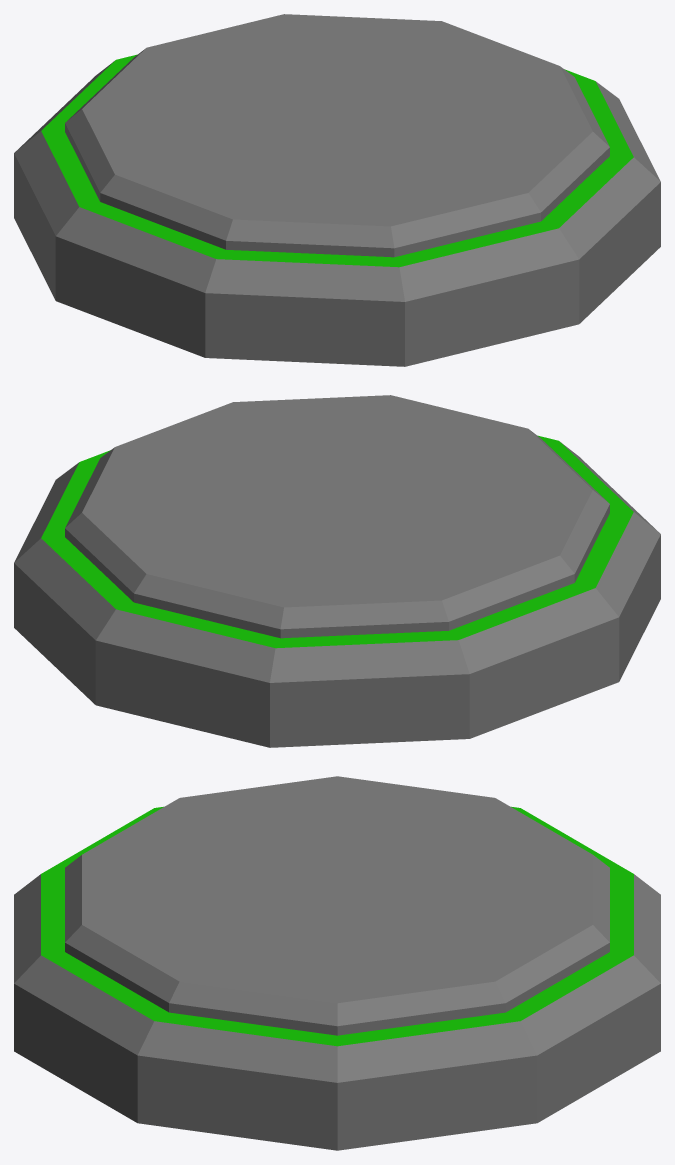
File: DroneLanding.fbx
3 views of the same model, one above another, from view 1: azimuth 30°, elevation 25°; view 2: azimuth 150°, elevation 25°; view 3: azimuth 270°, elevation 25° (orthographic). The views are drawn at different scales.
Parts seen in each view (by area): view 1: drone landingpat; view 2: drone landingpat; view 3: drone landingpat.
Part boxes in pixels (x1,y1,x2,y2): drone landingpat: (14,14,660,366); drone landingpat: (14,395,660,747); drone landingpat: (14,776,660,1150).
Bounding box in the file's own units: 124 × 23.61 × 118.
